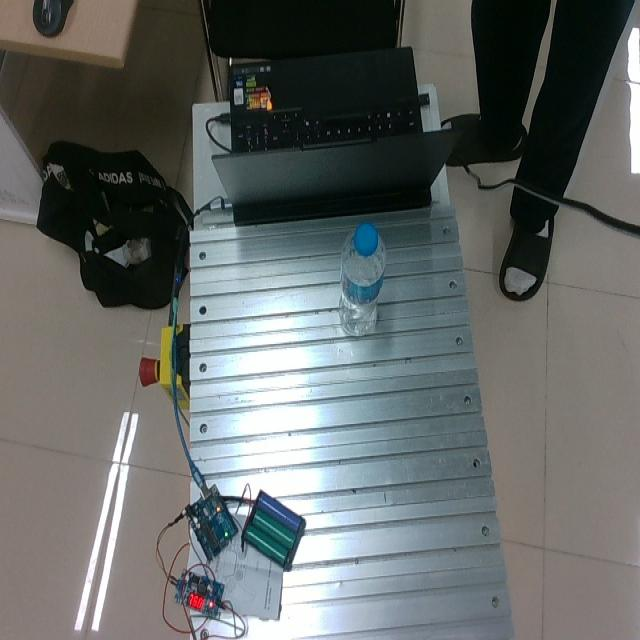lavie: (338, 223, 385, 336)
